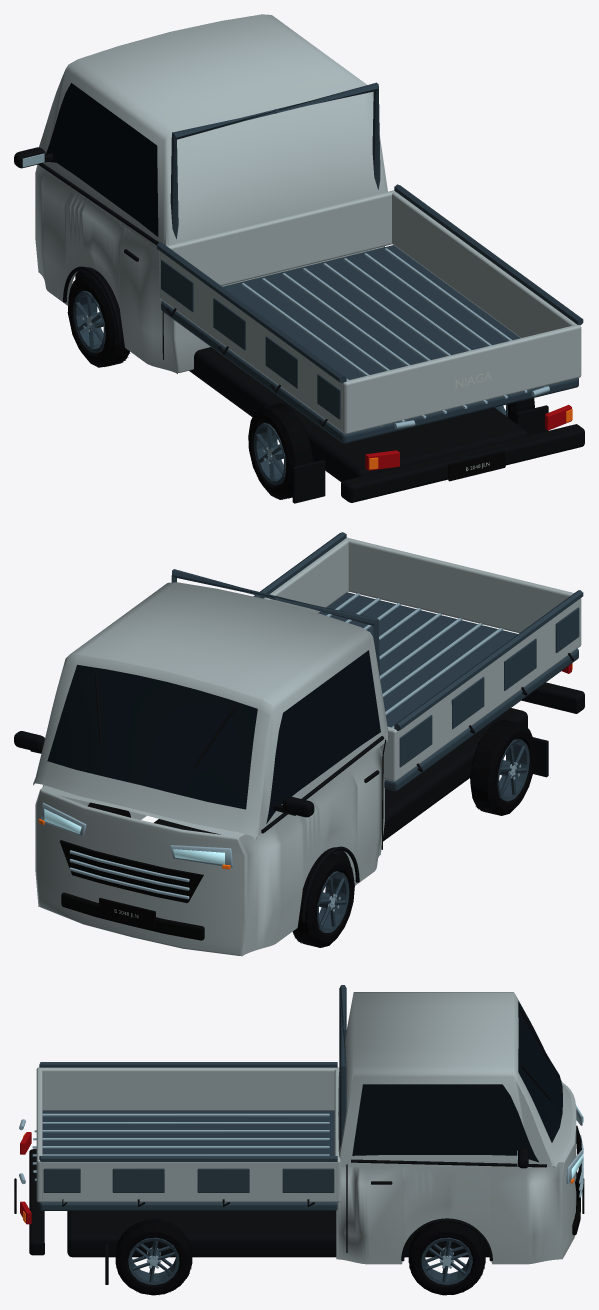
Rendered from Body_LOD1.fbx.
The picture shows the model from 3 angles, top to bottom: view 1: azimuth 30°, elevation 25°; view 2: azimuth 150°, elevation 25°; view 3: azimuth 270°, elevation 25°; orthographic projection. The views are drawn at different scales.
Visible parts, largest first — view 1: Body_Mesh, Wheel_RL_Mesh, Wheel_FL_Mesh, TailLights_Mesh; view 2: Body_Mesh, Wheel_RL_Mesh, Wheel_FL_Mesh, Headlights_Mesh; view 3: Body_Mesh, Wheel_RR_Mesh, Wheel_FR_Mesh.
Part boxes in pixels (<box>): Body_Mesh: <box>14,14,584,503</box>; Wheel_RL_Mesh: <box>248,403,313,499</box>; Wheel_FL_Mesh: <box>67,271,130,367</box>; TailLights_Mesh: <box>365,405,571,470</box>; Body_Mesh: <box>14,532,584,956</box>; Wheel_RL_Mesh: <box>470,719,535,815</box>; Wheel_FL_Mesh: <box>292,851,354,947</box>; Headlights_Mesh: <box>41,802,233,867</box>; Body_Mesh: <box>14,985,584,1284</box>; Wheel_RR_Mesh: <box>115,1219,192,1295</box>; Wheel_FR_Mesh: <box>408,1222,485,1295</box>.
Size of the model in its own units: 209 by 185 by 430.
